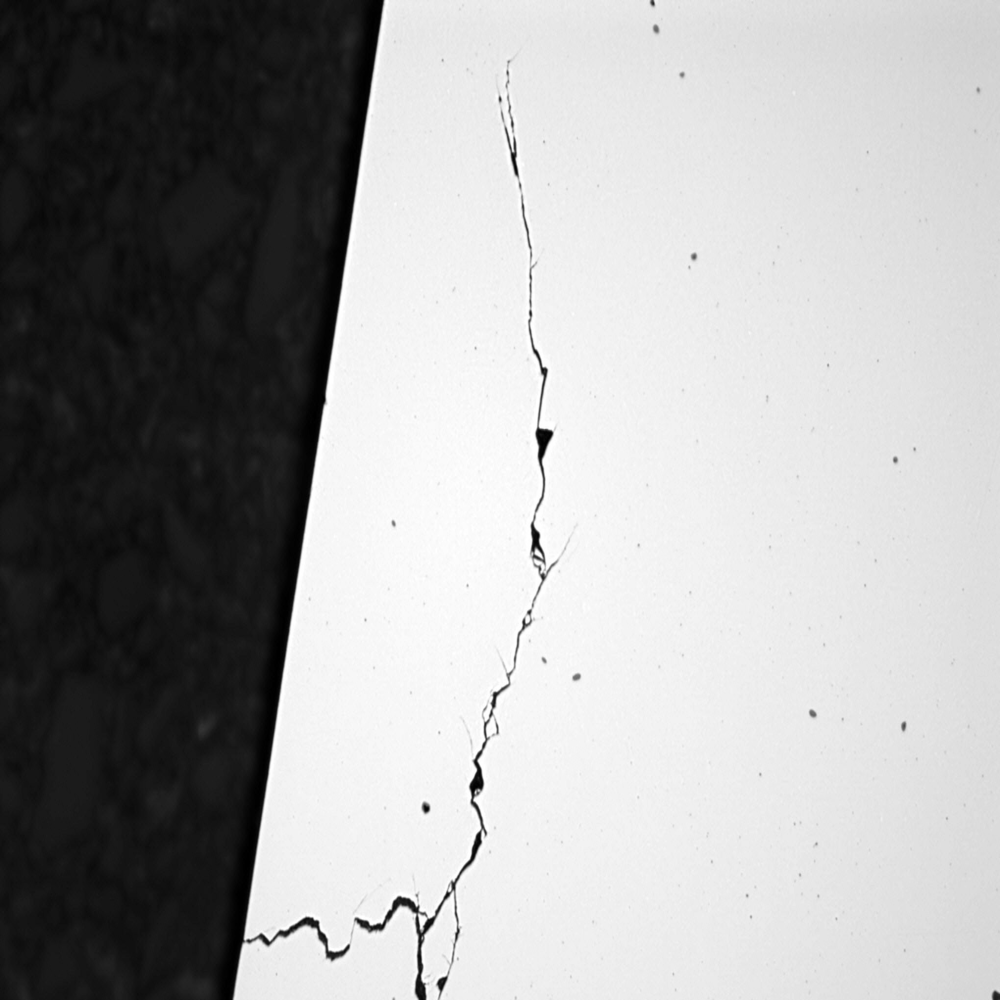crack: (246, 38, 570, 1000)
